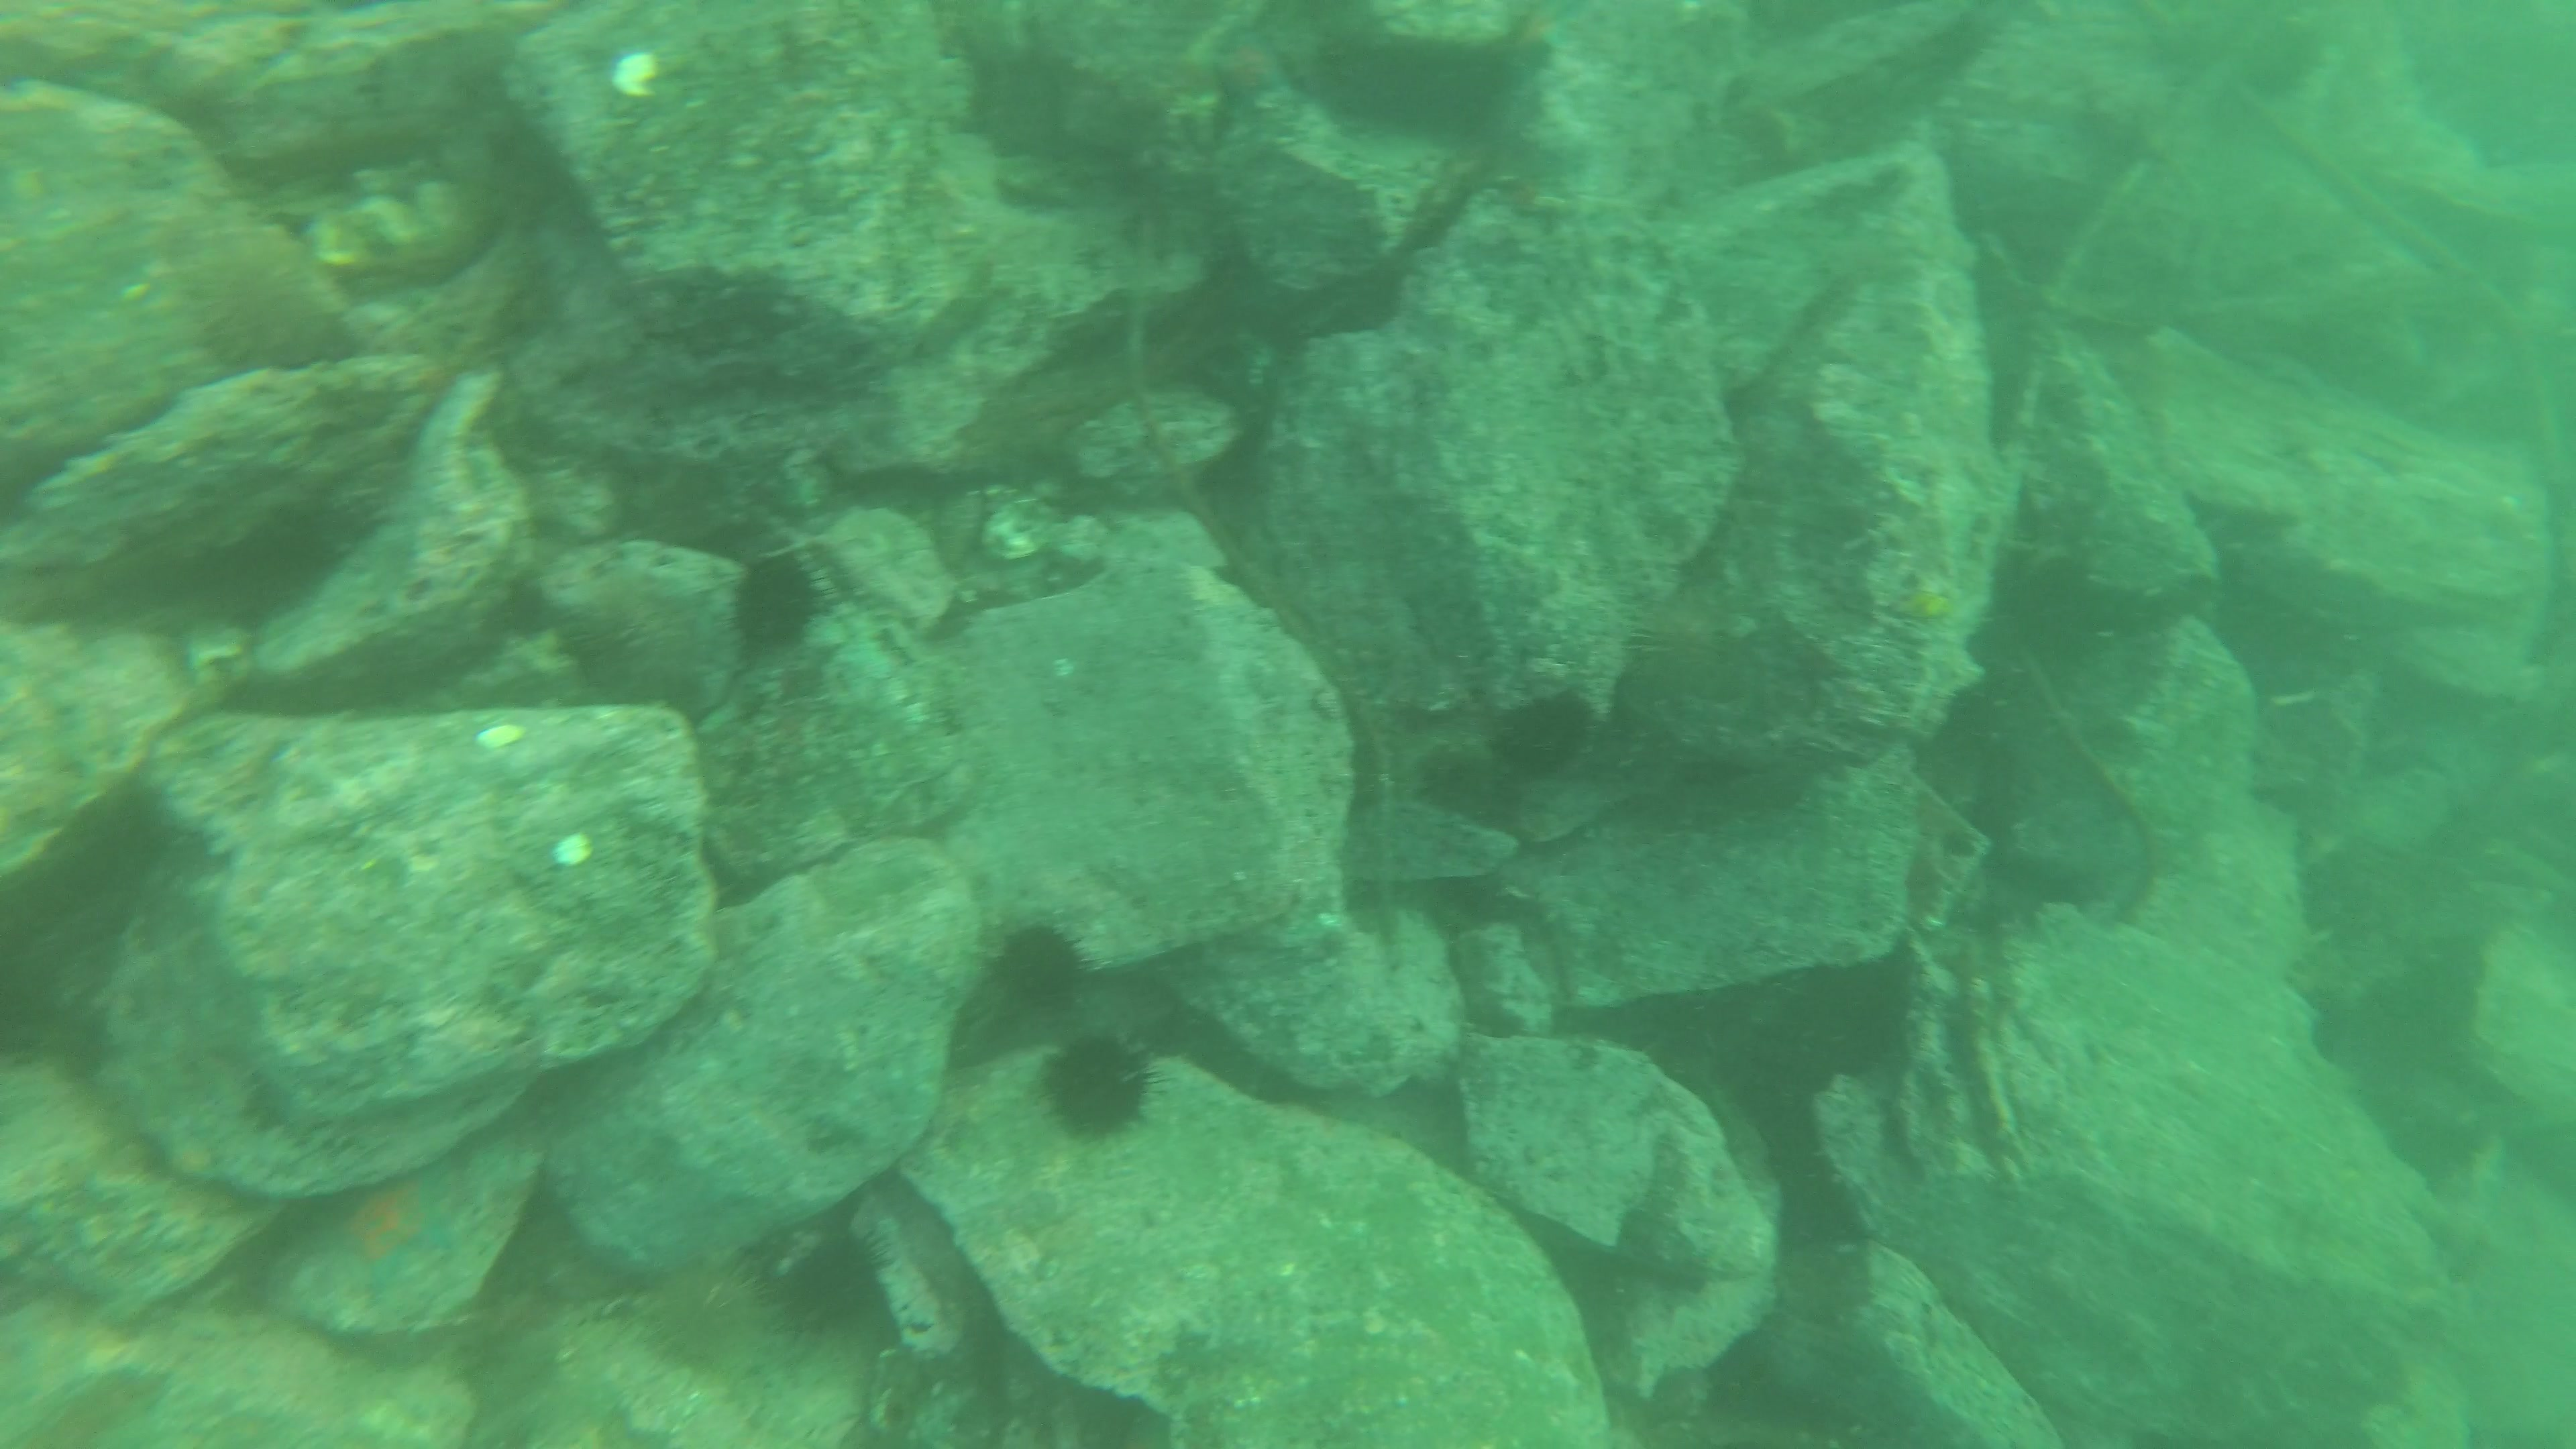echinus: (177, 244, 327, 377), (770, 1217, 904, 1350), (1033, 1017, 1175, 1138), (1615, 582, 1739, 717), (989, 913, 1108, 1035), (637, 1249, 752, 1369), (725, 543, 832, 667), (1486, 688, 1594, 791)
starfish: (331, 1145, 472, 1284), (1208, 23, 1302, 124)
